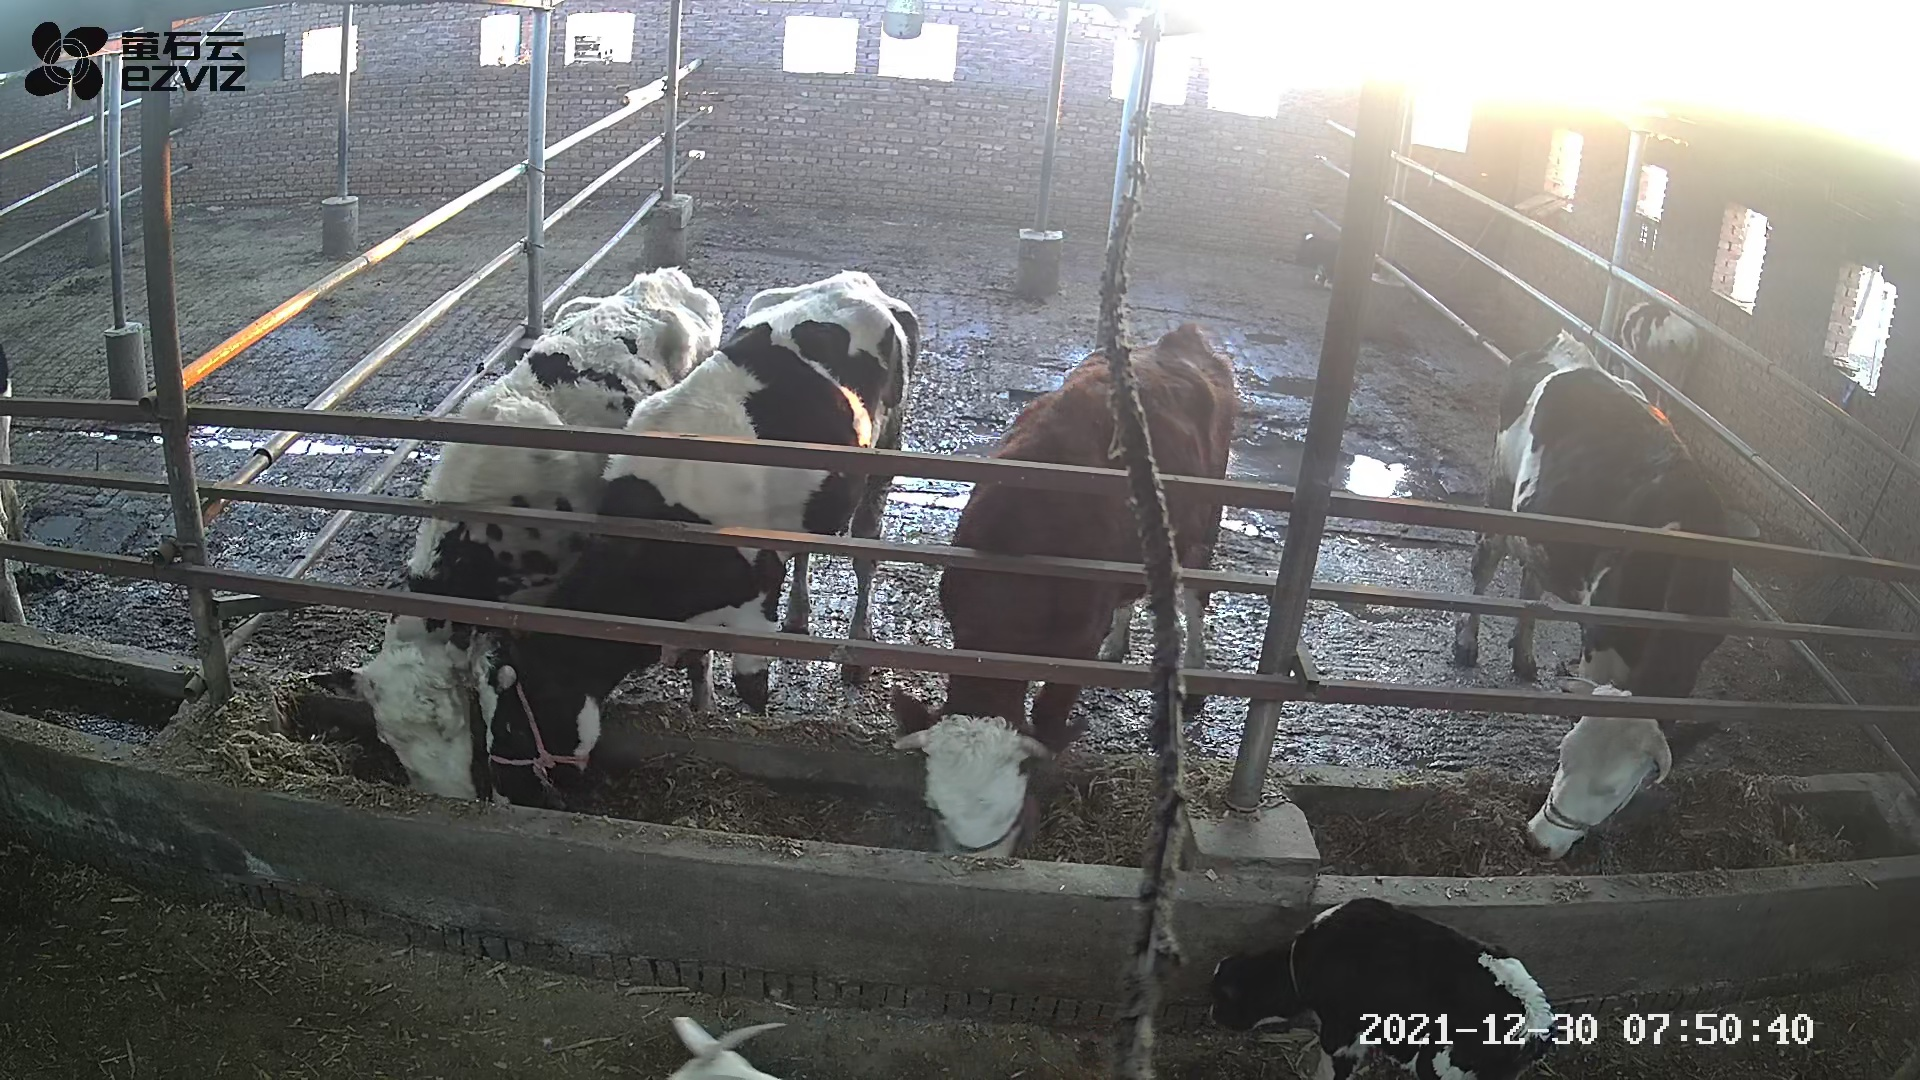cow: (464, 270, 918, 812), (311, 266, 723, 800), (887, 328, 1234, 860), (1451, 326, 1731, 858)
